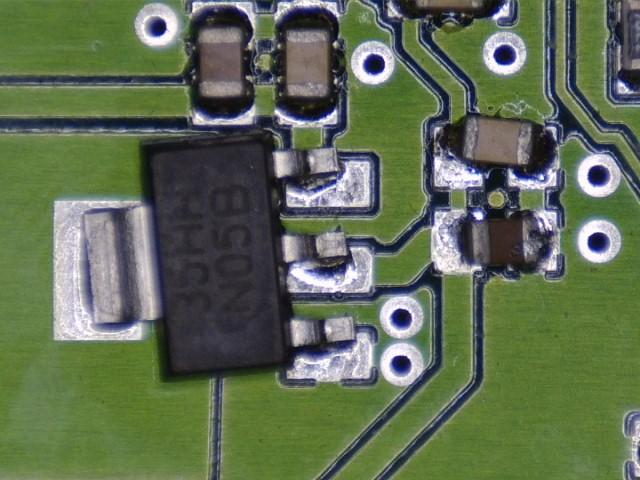Incorrect_installation: (53, 134, 374, 381), (434, 117, 557, 189)
